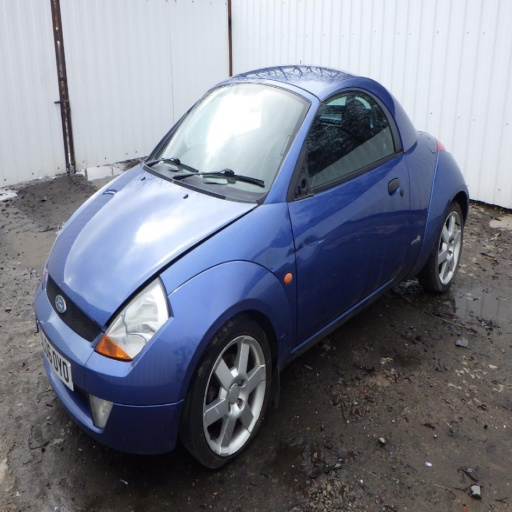dent: (298, 236, 318, 260), (293, 205, 312, 221), (287, 248, 295, 263), (287, 210, 290, 221), (357, 238, 360, 242)
scratch: (410, 235, 421, 247), (318, 236, 328, 245), (279, 334, 285, 339)
